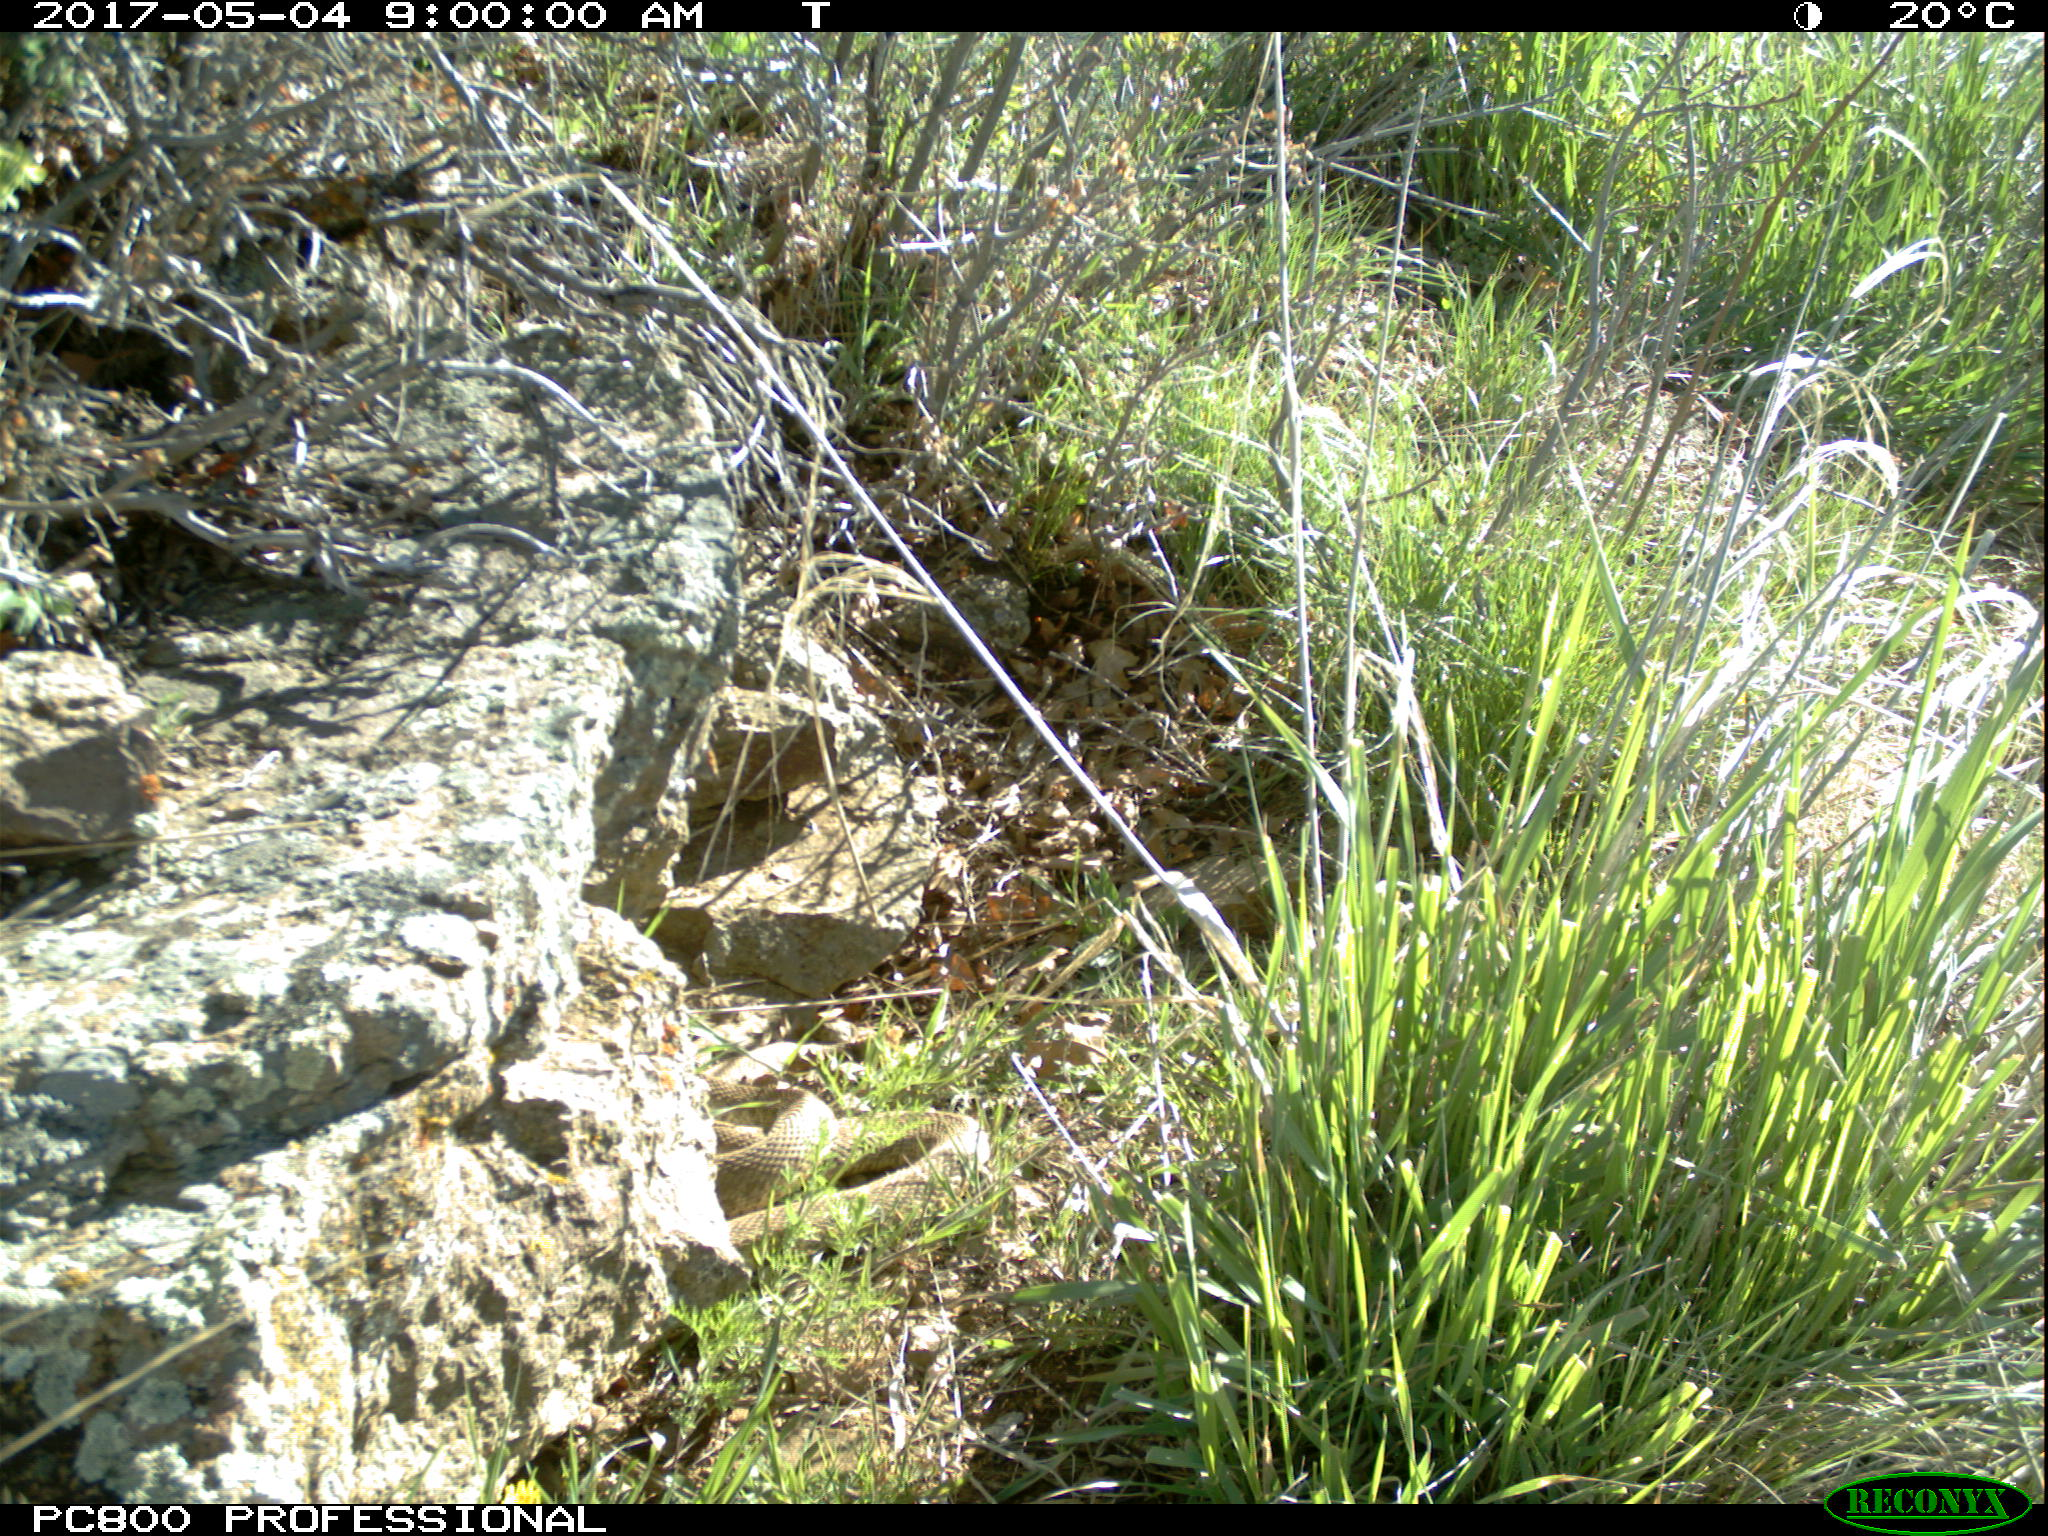snake: (698, 1070, 998, 1252)
